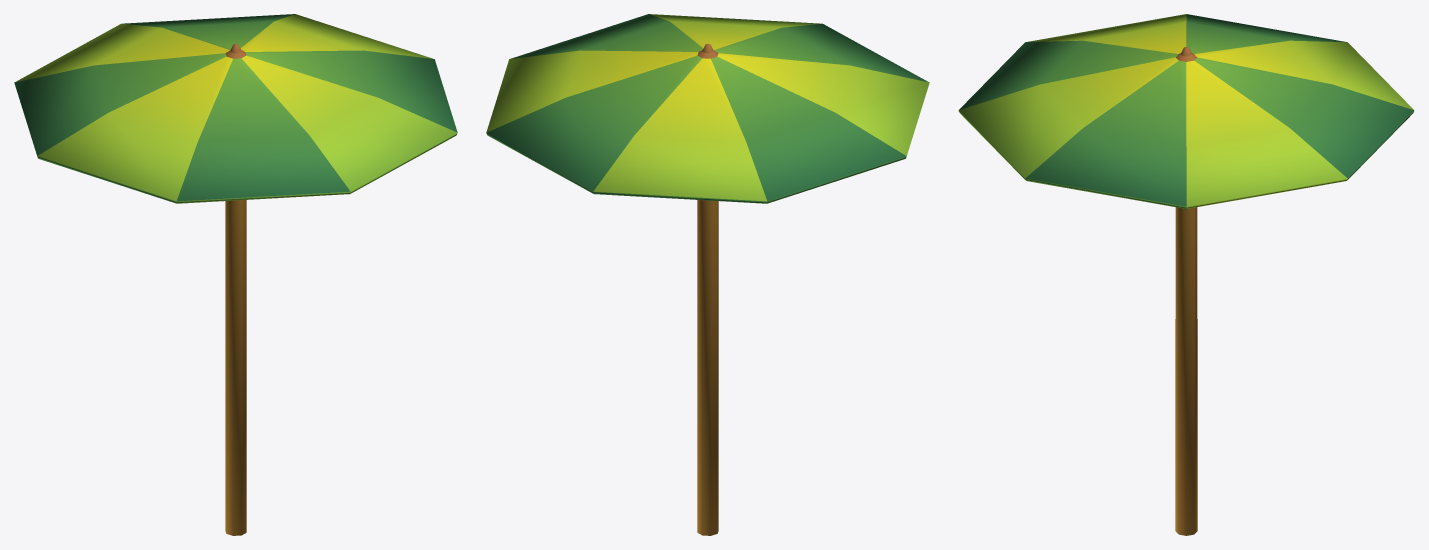
Rendered from Parasol.fbx.
3 renders of one model, left to right at view 1: azimuth 30°, elevation 25°; view 2: azimuth 150°, elevation 25°; view 3: azimuth 270°, elevation 25°, orthographic.
Visible parts, largest first — view 1: Parasol; view 2: Parasol; view 3: Parasol.
Boxes of the visible parts, box(x1,y1,x2,y2) form: Parasol: box(14, 14, 457, 535); Parasol: box(486, 14, 929, 535); Parasol: box(958, 14, 1414, 535).
Size of the model in its own units: 2.63 by 3.08 by 2.63.
